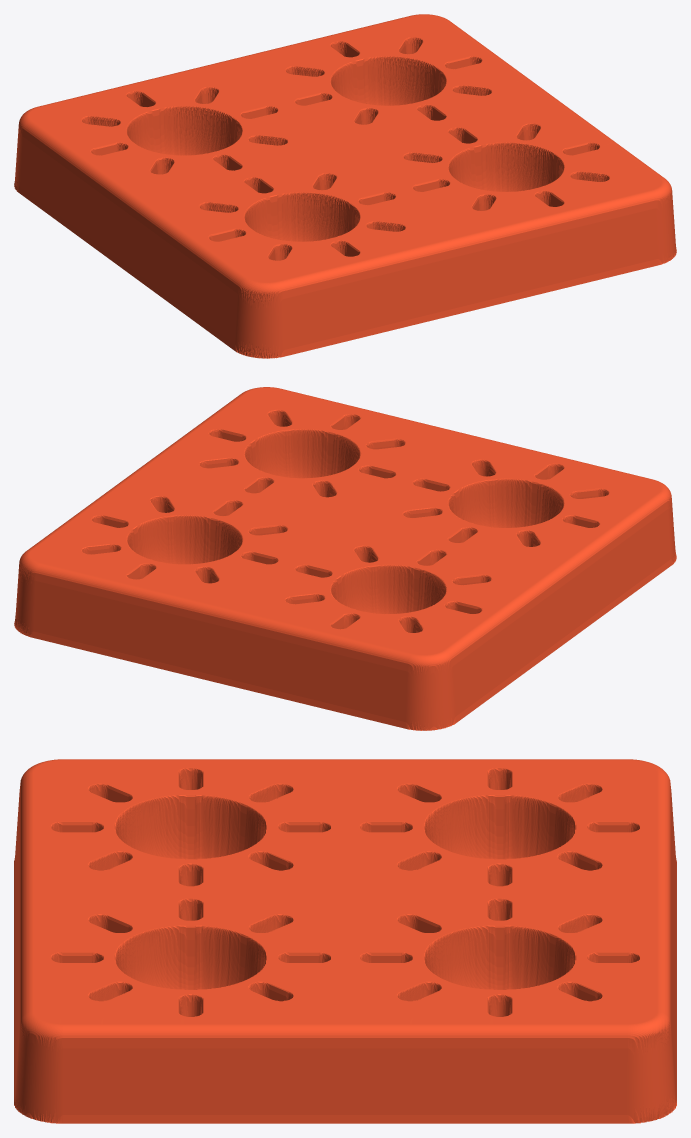
Rendered from mold.glb.
The picture shows the model from 3 angles, top to bottom: view 1: azimuth 30°, elevation 25°; view 2: azimuth 150°, elevation 25°; view 3: azimuth 270°, elevation 25°; orthographic projection. The views are drawn at different scales.
Visible parts, largest first — view 1: geometry_0; view 2: geometry_0; view 3: geometry_0.
Part boxes in pixels (x1=…): geometry_0: x1=14, y1=14, x2=676, y2=358; geometry_0: x1=14, y1=387, x2=676, y2=730; geometry_0: x1=14, y1=759, x2=676, y2=1123.
Bounding box in the file's own units: 0.1218 × 0.0185 × 0.1218.
